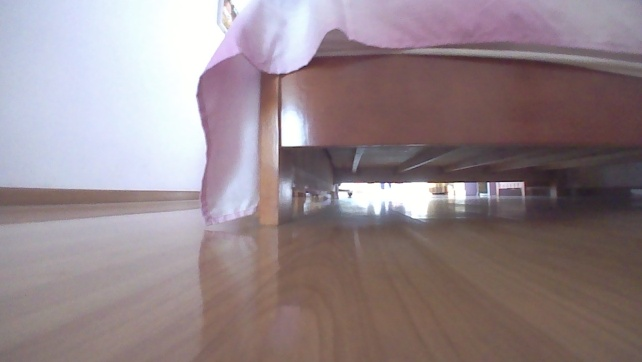bed1: (192, 0, 641, 230)
